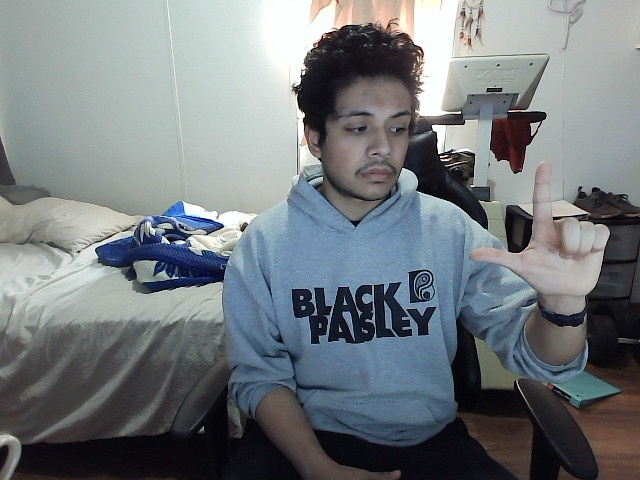L: (465, 155, 613, 305)
